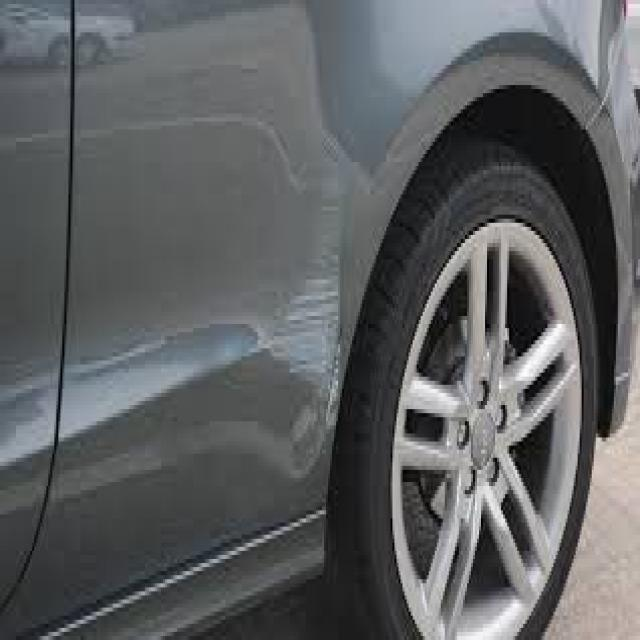minor: (232, 139, 344, 494)
